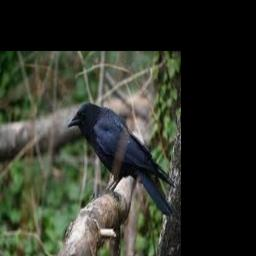Crow: (67, 102, 178, 219)
